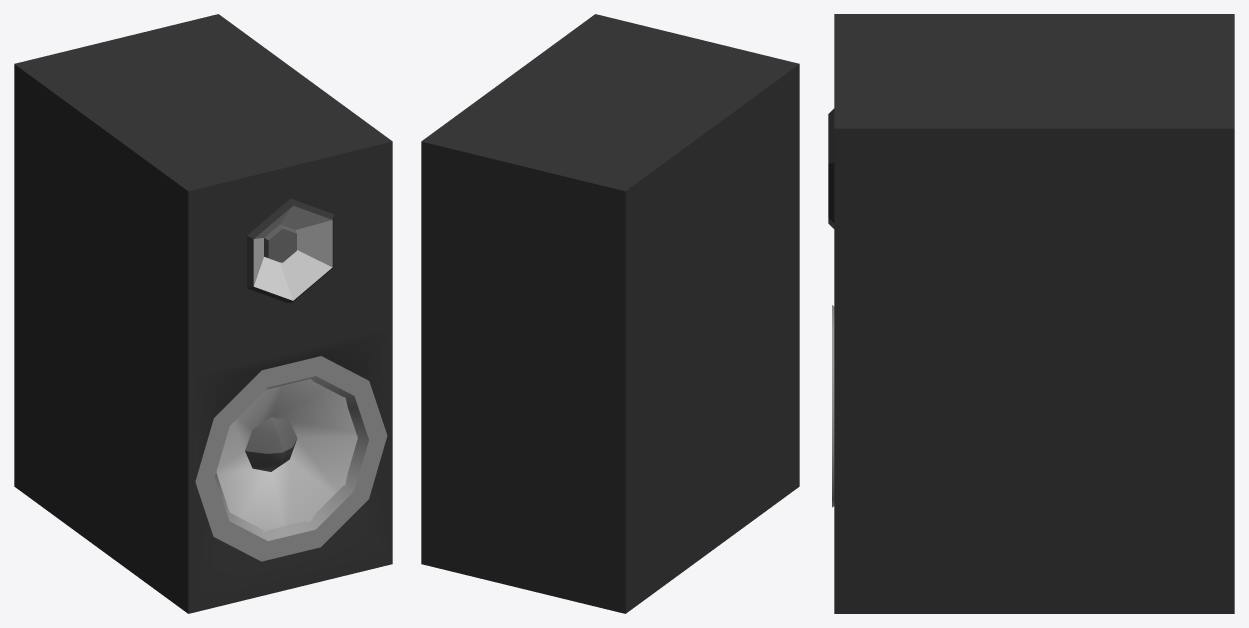
The model's file is Television_Parlante02.fbx.
3 views of the same model, side by side, from view 1: azimuth 30°, elevation 25°; view 2: azimuth 150°, elevation 25°; view 3: azimuth 270°, elevation 25° (orthographic). The views are drawn at different scales.
Visible parts, largest first — view 1: Television_Parlante02; view 2: Television_Parlante02; view 3: Television_Parlante02.
Part boxes in pixels (x1,y1,x2,y2): Television_Parlante02: (14, 14, 392, 613); Television_Parlante02: (421, 14, 799, 613); Television_Parlante02: (828, 14, 1234, 613).
Bounding box in the file's own units: 19.41 × 38.35 × 29.08.
